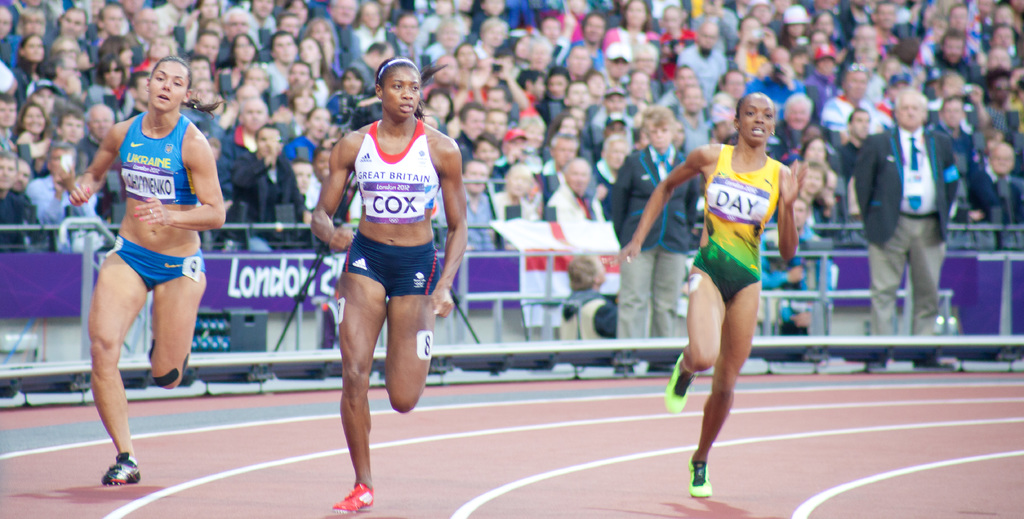Person: (0, 0, 1024, 374)
